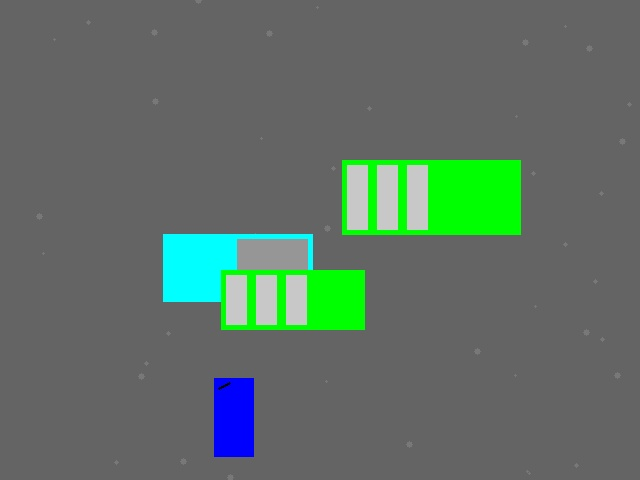bus: (342, 160, 520, 234), (221, 270, 364, 329)
motorcycle: (214, 378, 253, 456)
truck: (163, 234, 312, 301)
